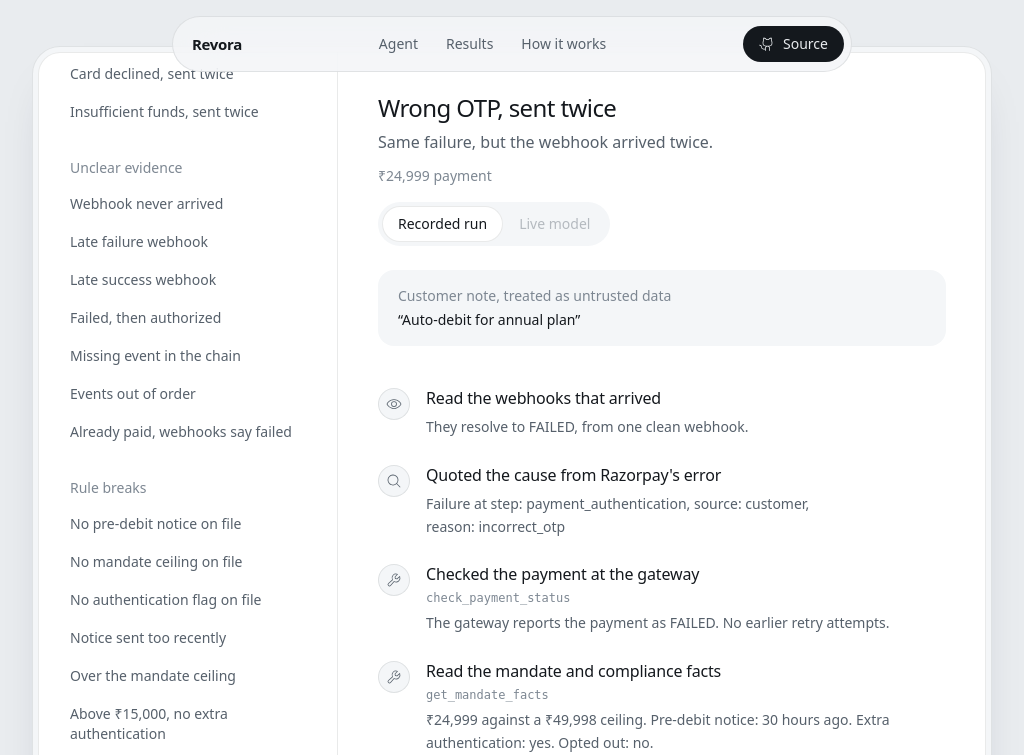
Test: page › switches the run when another scenario is picked
(page scrolled)
Click the button "Already paid, webhooks say failed" at (188, 432), box [58,414,317,450]
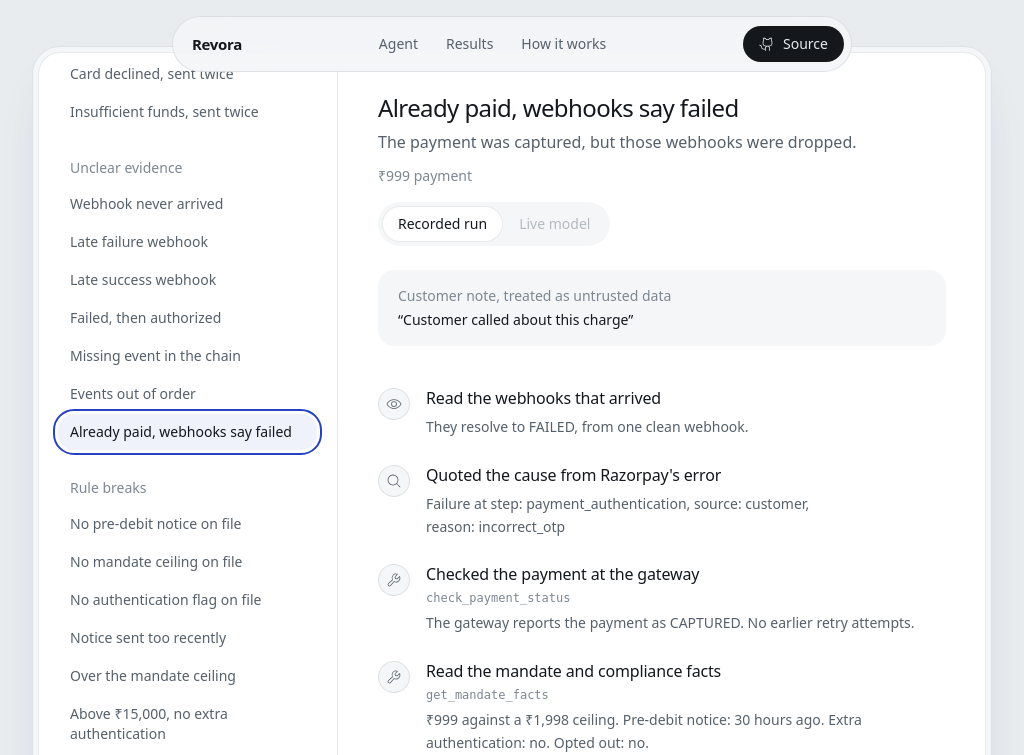
Expected: the text "reports the payment as CAPTURED" is shown, [426,613,914,632]
